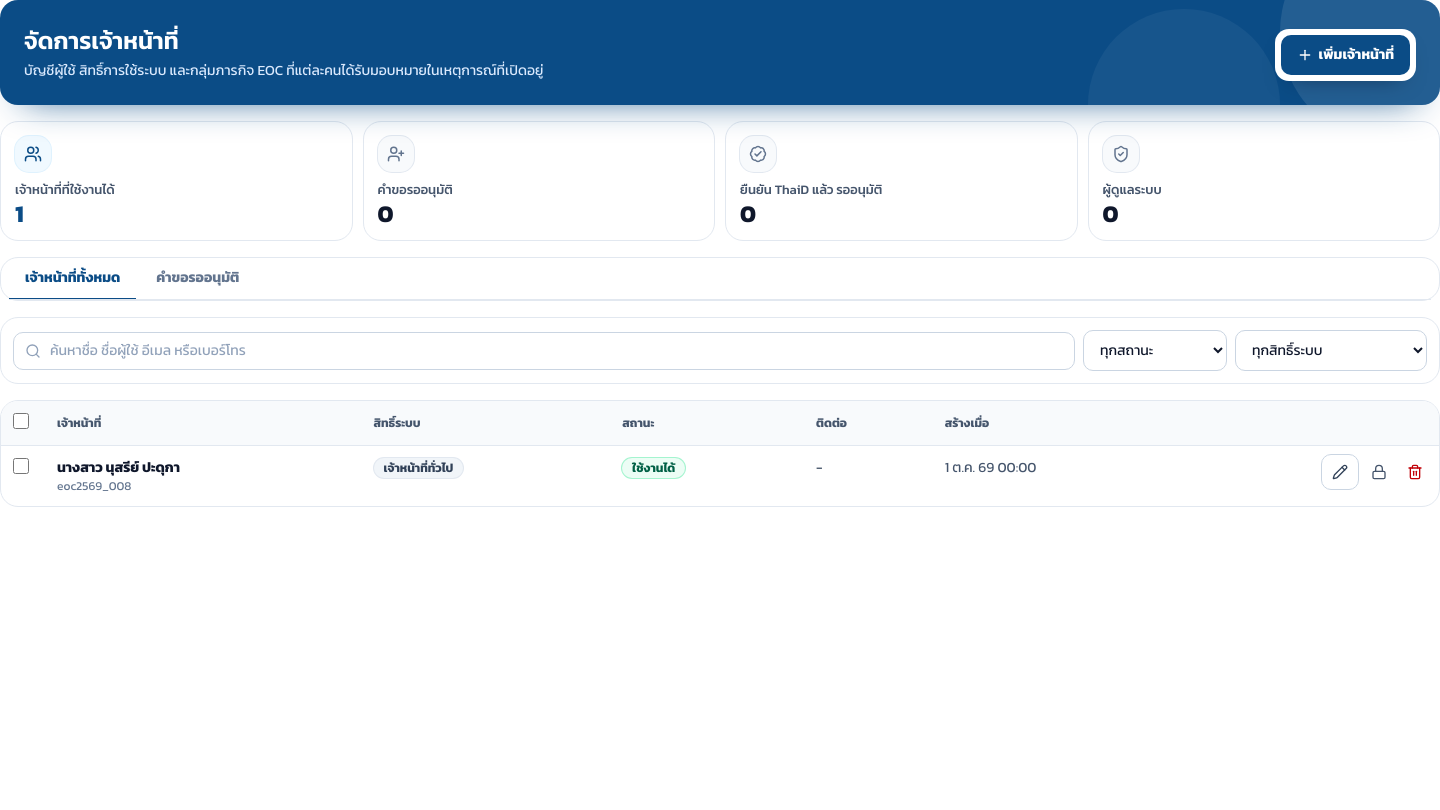
Scenario: OfficerWorkspace › แปลงบทบาทเก่า ส่งเฉพาะทีมที่เปิดอยู่ และบันทึกได้
What coordinates should you click on to do the following:
click the button named "แก้ไข"
I would click on:
 (1340, 472)
Its box is [1321,454,1359,490].
(page scrolled)
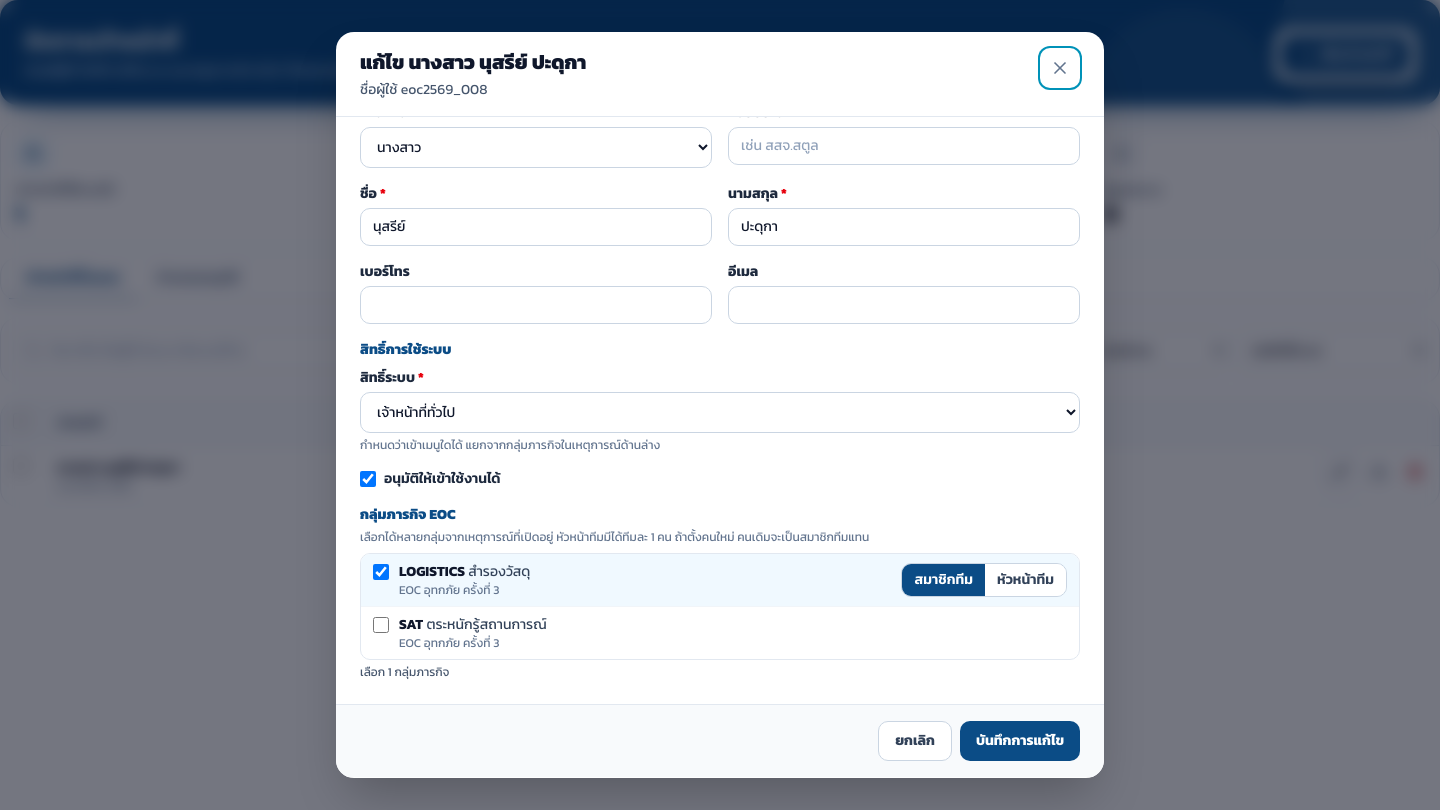
Expected: the text "LOGISTICS" is shown, [399,561,465,582]
What coordinates should you click on to do the following:
click the checkbox labelled "SAT ตระหนักรู้สถานการณ์ EOC อุทกภัย ครั้งที่ 3"
I would click on:
 (381, 625)
Its box is [373,617,389,633].
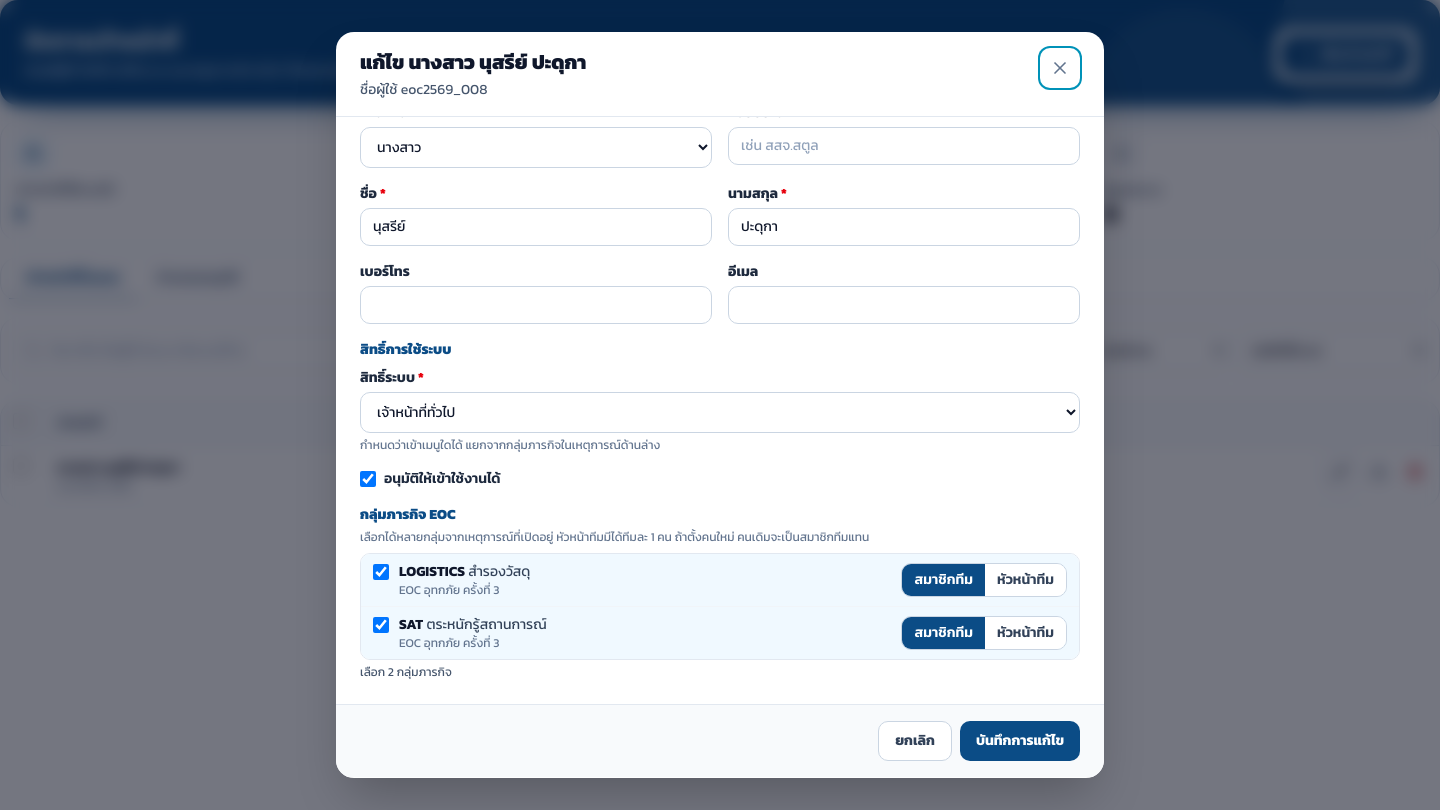
What coordinates should you click on to do the following:
click the radio button labelled "หัวหน้าทีม" in the row of "SAT"
I would click on:
 (1026, 633)
Its box is [985,617,1066,649].
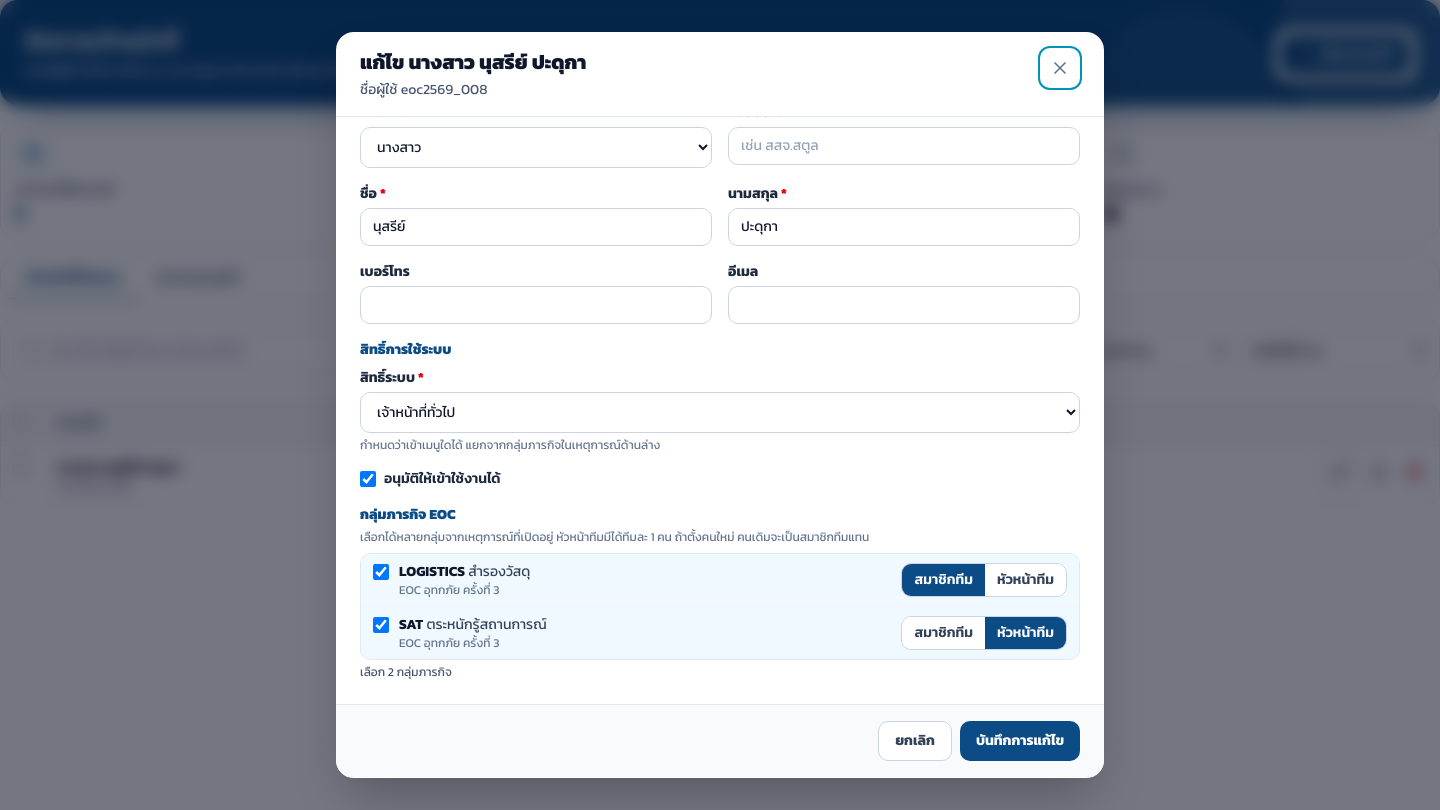
What coordinates should you click on to do the following:
click the button "บันทึกการแก้ไข"
I would click on:
 (1020, 741)
Its box is [960,721,1080,761].
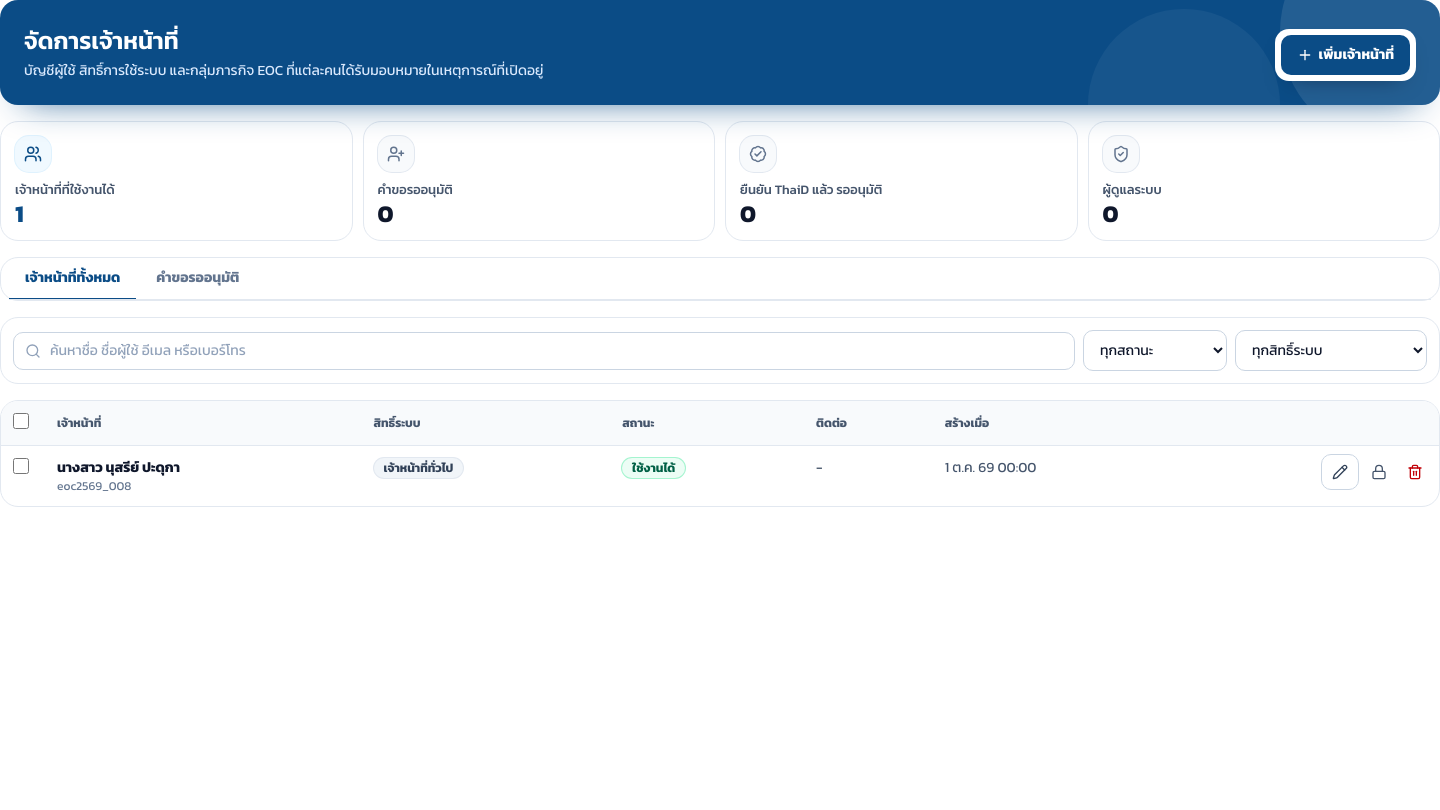
Expected: the dialog is gone
